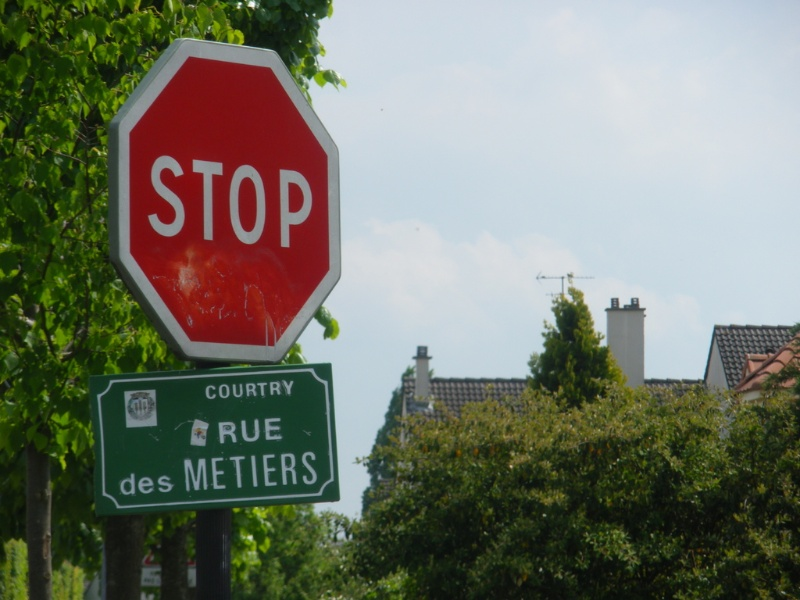stop: (96, 29, 353, 367)
